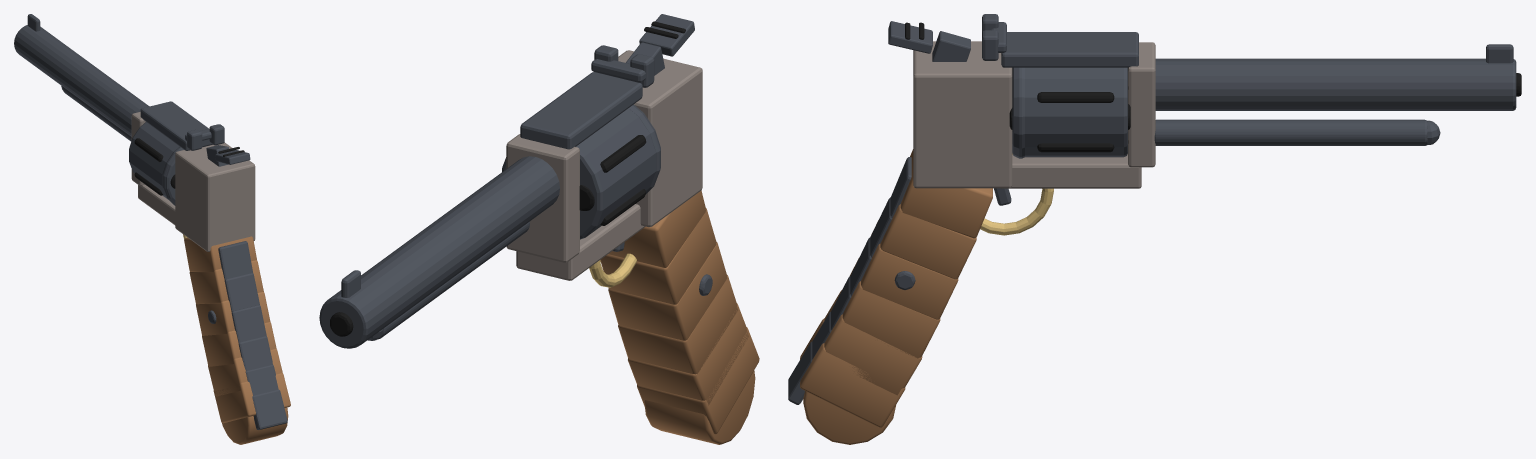
Rendered from revolver.glb.
3 views of the same model, side by side, from view 1: azimuth 30°, elevation 25°; view 2: azimuth 150°, elevation 25°; view 3: azimuth 270°, elevation 25° (orthographic). The views are drawn at different scales.
Visible parts, largest first — view 1: Revolver, RevolverCylinder, RevolverHammer; view 2: Revolver, RevolverCylinder, RevolverHammer; view 3: Revolver, RevolverCylinder, RevolverHammer.
Part boxes in pixels (<box>): Revolver: <box>14,14,290,444</box>; RevolverCylinder: <box>129,122,183,205</box>; RevolverHammer: <box>206,145,250,166</box>; Revolver: <box>319,45,759,444</box>; RevolverCylinder: <box>502,104,660,239</box>; RevolverHammer: <box>625,14,694,75</box>; Revolver: <box>788,14,1521,444</box>; RevolverCylinder: <box>1009,67,1130,158</box>; RevolverHammer: <box>888,21,970,61</box>.
Size of the model in its own units: 0.0404 by 0.163 by 0.2664.
